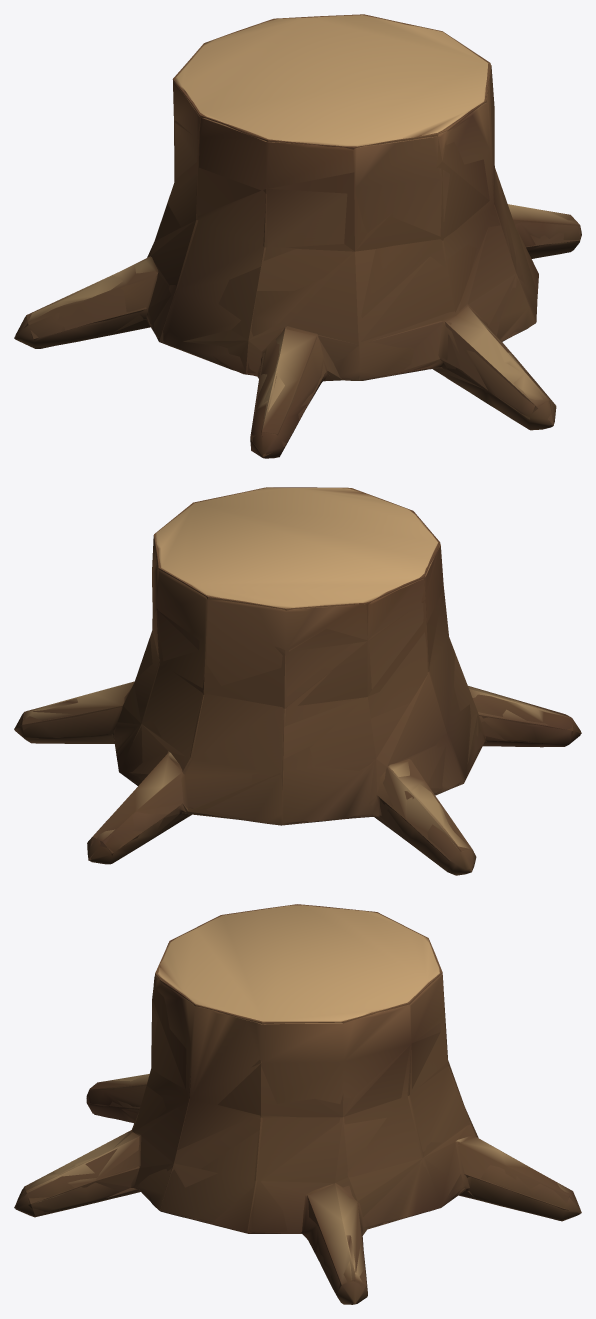
Rendered from stump.glb.
3 renders of one model, top to bottom at view 1: azimuth 30°, elevation 25°; view 2: azimuth 150°, elevation 25°; view 3: azimuth 270°, elevation 25°, orthographic. The views are drawn at different scales.
Parts seen in each view (by area): view 1: stump_LOD1, stump_LOD2; view 2: stump_LOD1, stump_LOD2; view 3: stump_LOD1, stump_LOD2.
Part boxes in pixels (left/top/right/bottom): stump_LOD1: left=15, top=15, right=581, bottom=458; stump_LOD2: left=14, top=14, right=580, bottom=457; stump_LOD1: left=14, top=487, right=580, bottom=875; stump_LOD2: left=14, top=487, right=581, bottom=872; stump_LOD1: left=15, top=905, right=580, bottom=1304; stump_LOD2: left=14, top=904, right=581, bottom=1303.
Bounding box in the file's own units: 1.07 × 0.4902 × 1.1.
